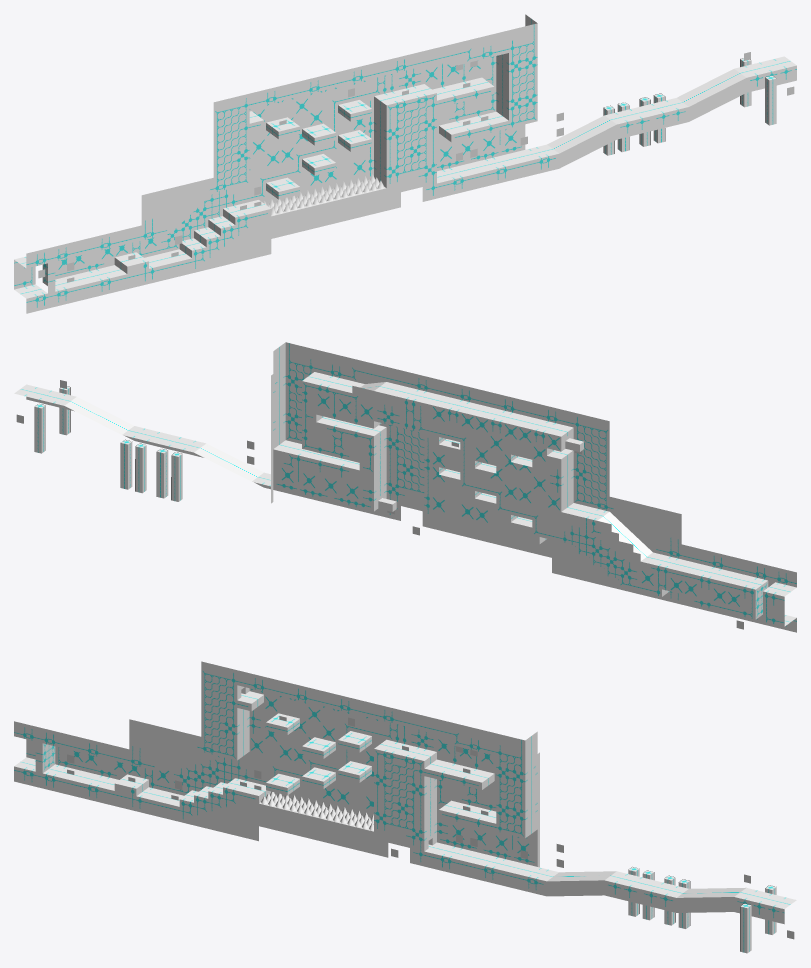
The model's file is Stage1-2.FBX.
3 views of the same model, one above another, from view 1: azimuth 30°, elevation 25°; view 2: azimuth 150°, elevation 25°; view 3: azimuth 330°, elevation 25° (orthographic).
Parts seen in each view (by area): view 1: stage1, stage2, stage_needle_notex, Obj1-001; view 2: stage1, stage2, Obj2-002, Obj2-003, Obj2-001, Obj1-002, Obj2-004; view 3: stage1, stage2, stage_needle_notex, Obj1-001.
Boxes of the visible parts, x1=… form: stage1: x1=14, y1=14, x2=796, y2=313; stage2: x1=14, y1=56, x2=525, y2=289; stage_needle_notex: x1=263, y1=174, x2=384, y2=215; Obj1-001: x1=765, y1=75, x2=776, y2=125; stage1: x1=14, y1=342, x2=796, y2=632; stage2: x1=271, y1=374, x2=784, y2=626; Obj2-002: x1=135, y1=443, x2=146, y2=493; Obj2-003: x1=157, y1=448, x2=168, y2=498; Obj2-001: x1=121, y1=440, x2=132, y2=489; Obj1-002: x1=34, y1=403, x2=45, y2=453; Obj2-004: x1=171, y1=452, x2=182, y2=501; stage1: x1=14, y1=661, x2=796, y2=924; stage2: x1=26, y1=688, x2=539, y2=867; stage_needle_notex: x1=261, y1=791, x2=373, y2=830; Obj1-001: x1=740, y1=903, x2=751, y2=953.
Bounding box in the file's own units: 10750 × 2250 × 703.
3 materials, 1 textured.
